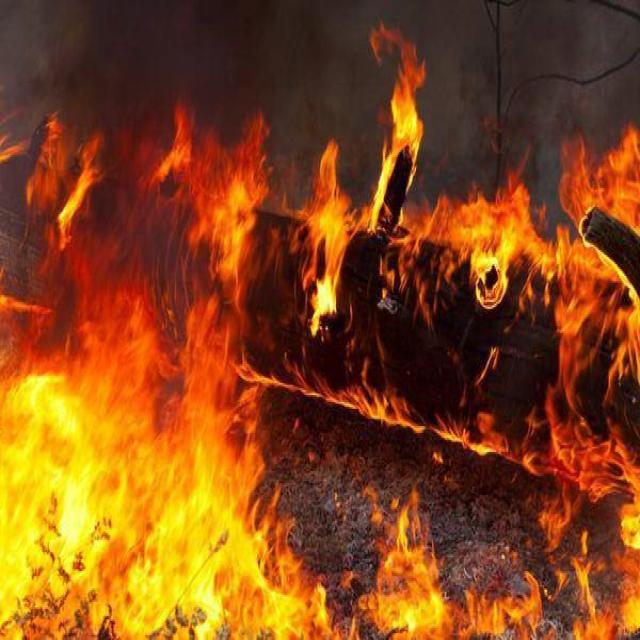fire: (9, 8, 636, 632)
